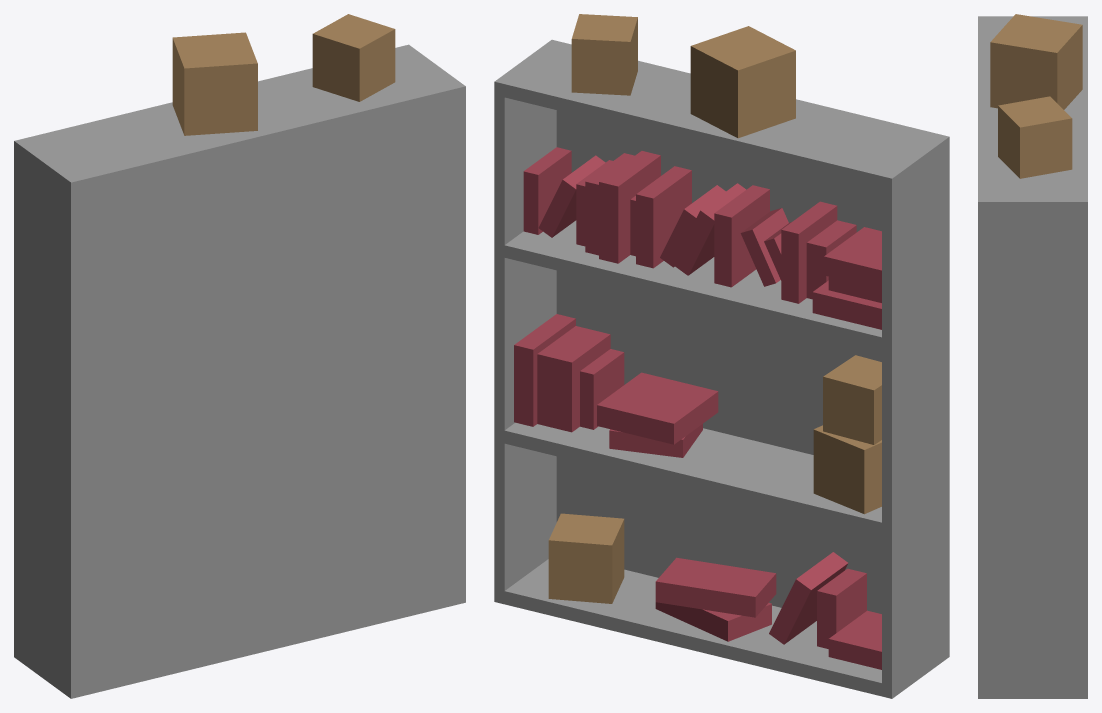
Rendered from BookShelf.fbx.
3 views of the same model, side by side, from view 1: azimuth 30°, elevation 25°; view 2: azimuth 150°, elevation 25°; view 3: azimuth 270°, elevation 25° (orthographic). The views are drawn at different scales.
Parts seen in each view (by area): view 1: polySurface447; view 2: polySurface447; view 3: polySurface447.
Part boxes in pixels (bbox=[...]): polySurface447: bbox=[14, 14, 465, 698]; polySurface447: bbox=[494, 14, 949, 698]; polySurface447: bbox=[978, 14, 1087, 698].
Bounding box in the file's own units: 400 × 565 × 100.
